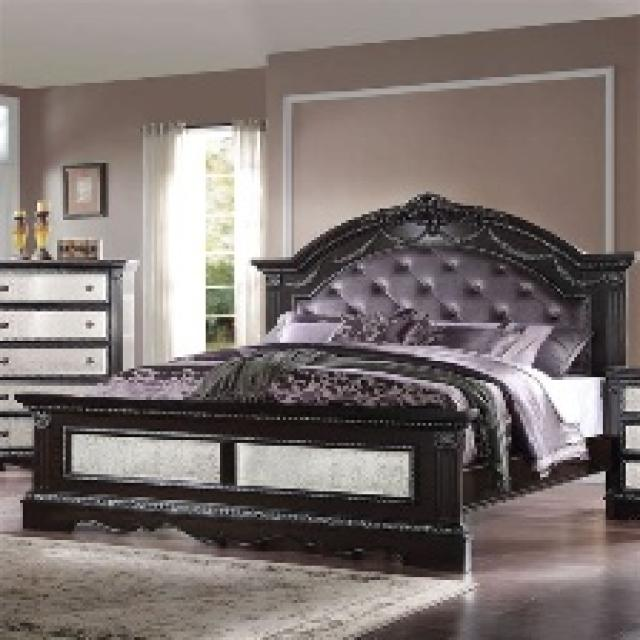Bed: (15, 189, 634, 574)
